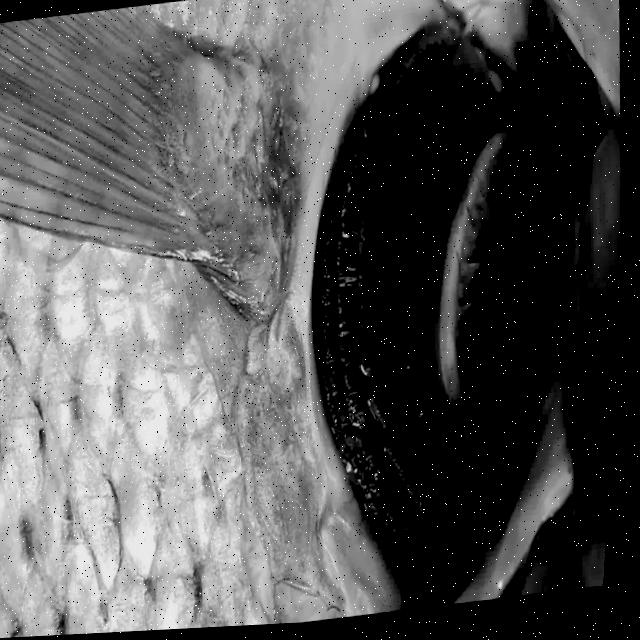Fresh: (245, 0, 615, 629)
